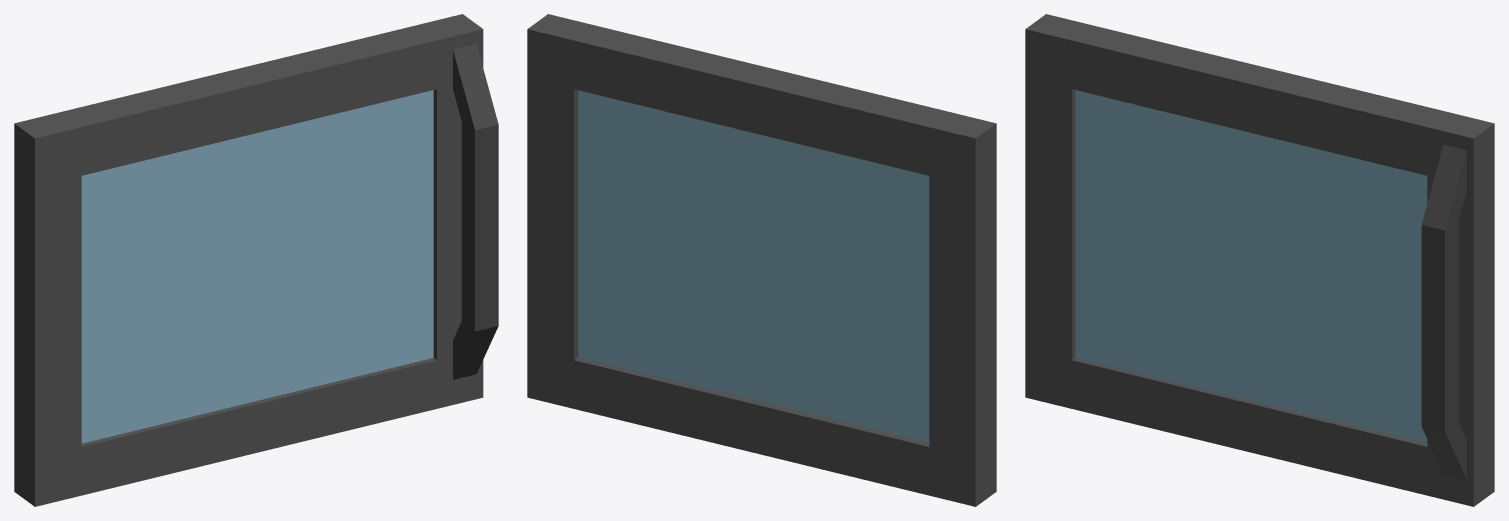
The model's file is Microwave_C2_02.fbx.
The picture shows the model from 3 angles, left to right: view 1: azimuth 30°, elevation 25°; view 2: azimuth 150°, elevation 25°; view 3: azimuth 330°, elevation 25°; orthographic projection.
Visible parts, largest first — view 1: Microwave_C2_02; view 2: Microwave_C2_02; view 3: Microwave_C2_02.
Part boxes in pixels (x1,y1,x2,y2): Microwave_C2_02: [14, 14, 498, 506]; Microwave_C2_02: [527, 14, 996, 506]; Microwave_C2_02: [1025, 14, 1494, 506].
Size of the model in its own units: 36.93 by 29 by 6.1.
